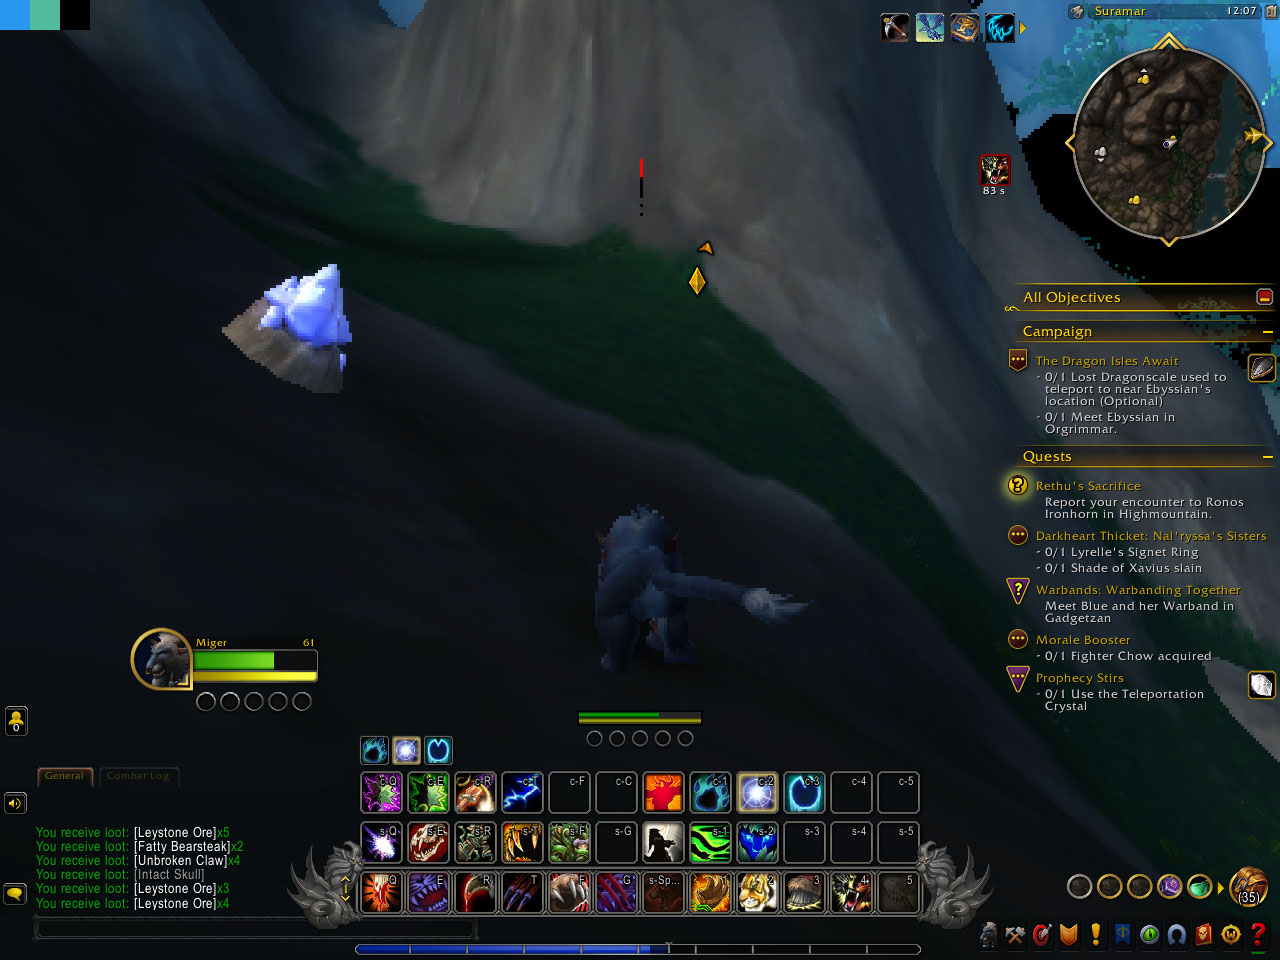ore: (222, 260, 354, 398)
